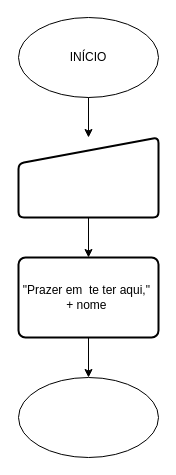
This 176x475 diagram has some shape labels left out. The centre of each missing label's shape, as x and y in pixels:
"Qual o seu nome?" = nome: the point at 88,177
TÉRMINO: the point at 88,417
